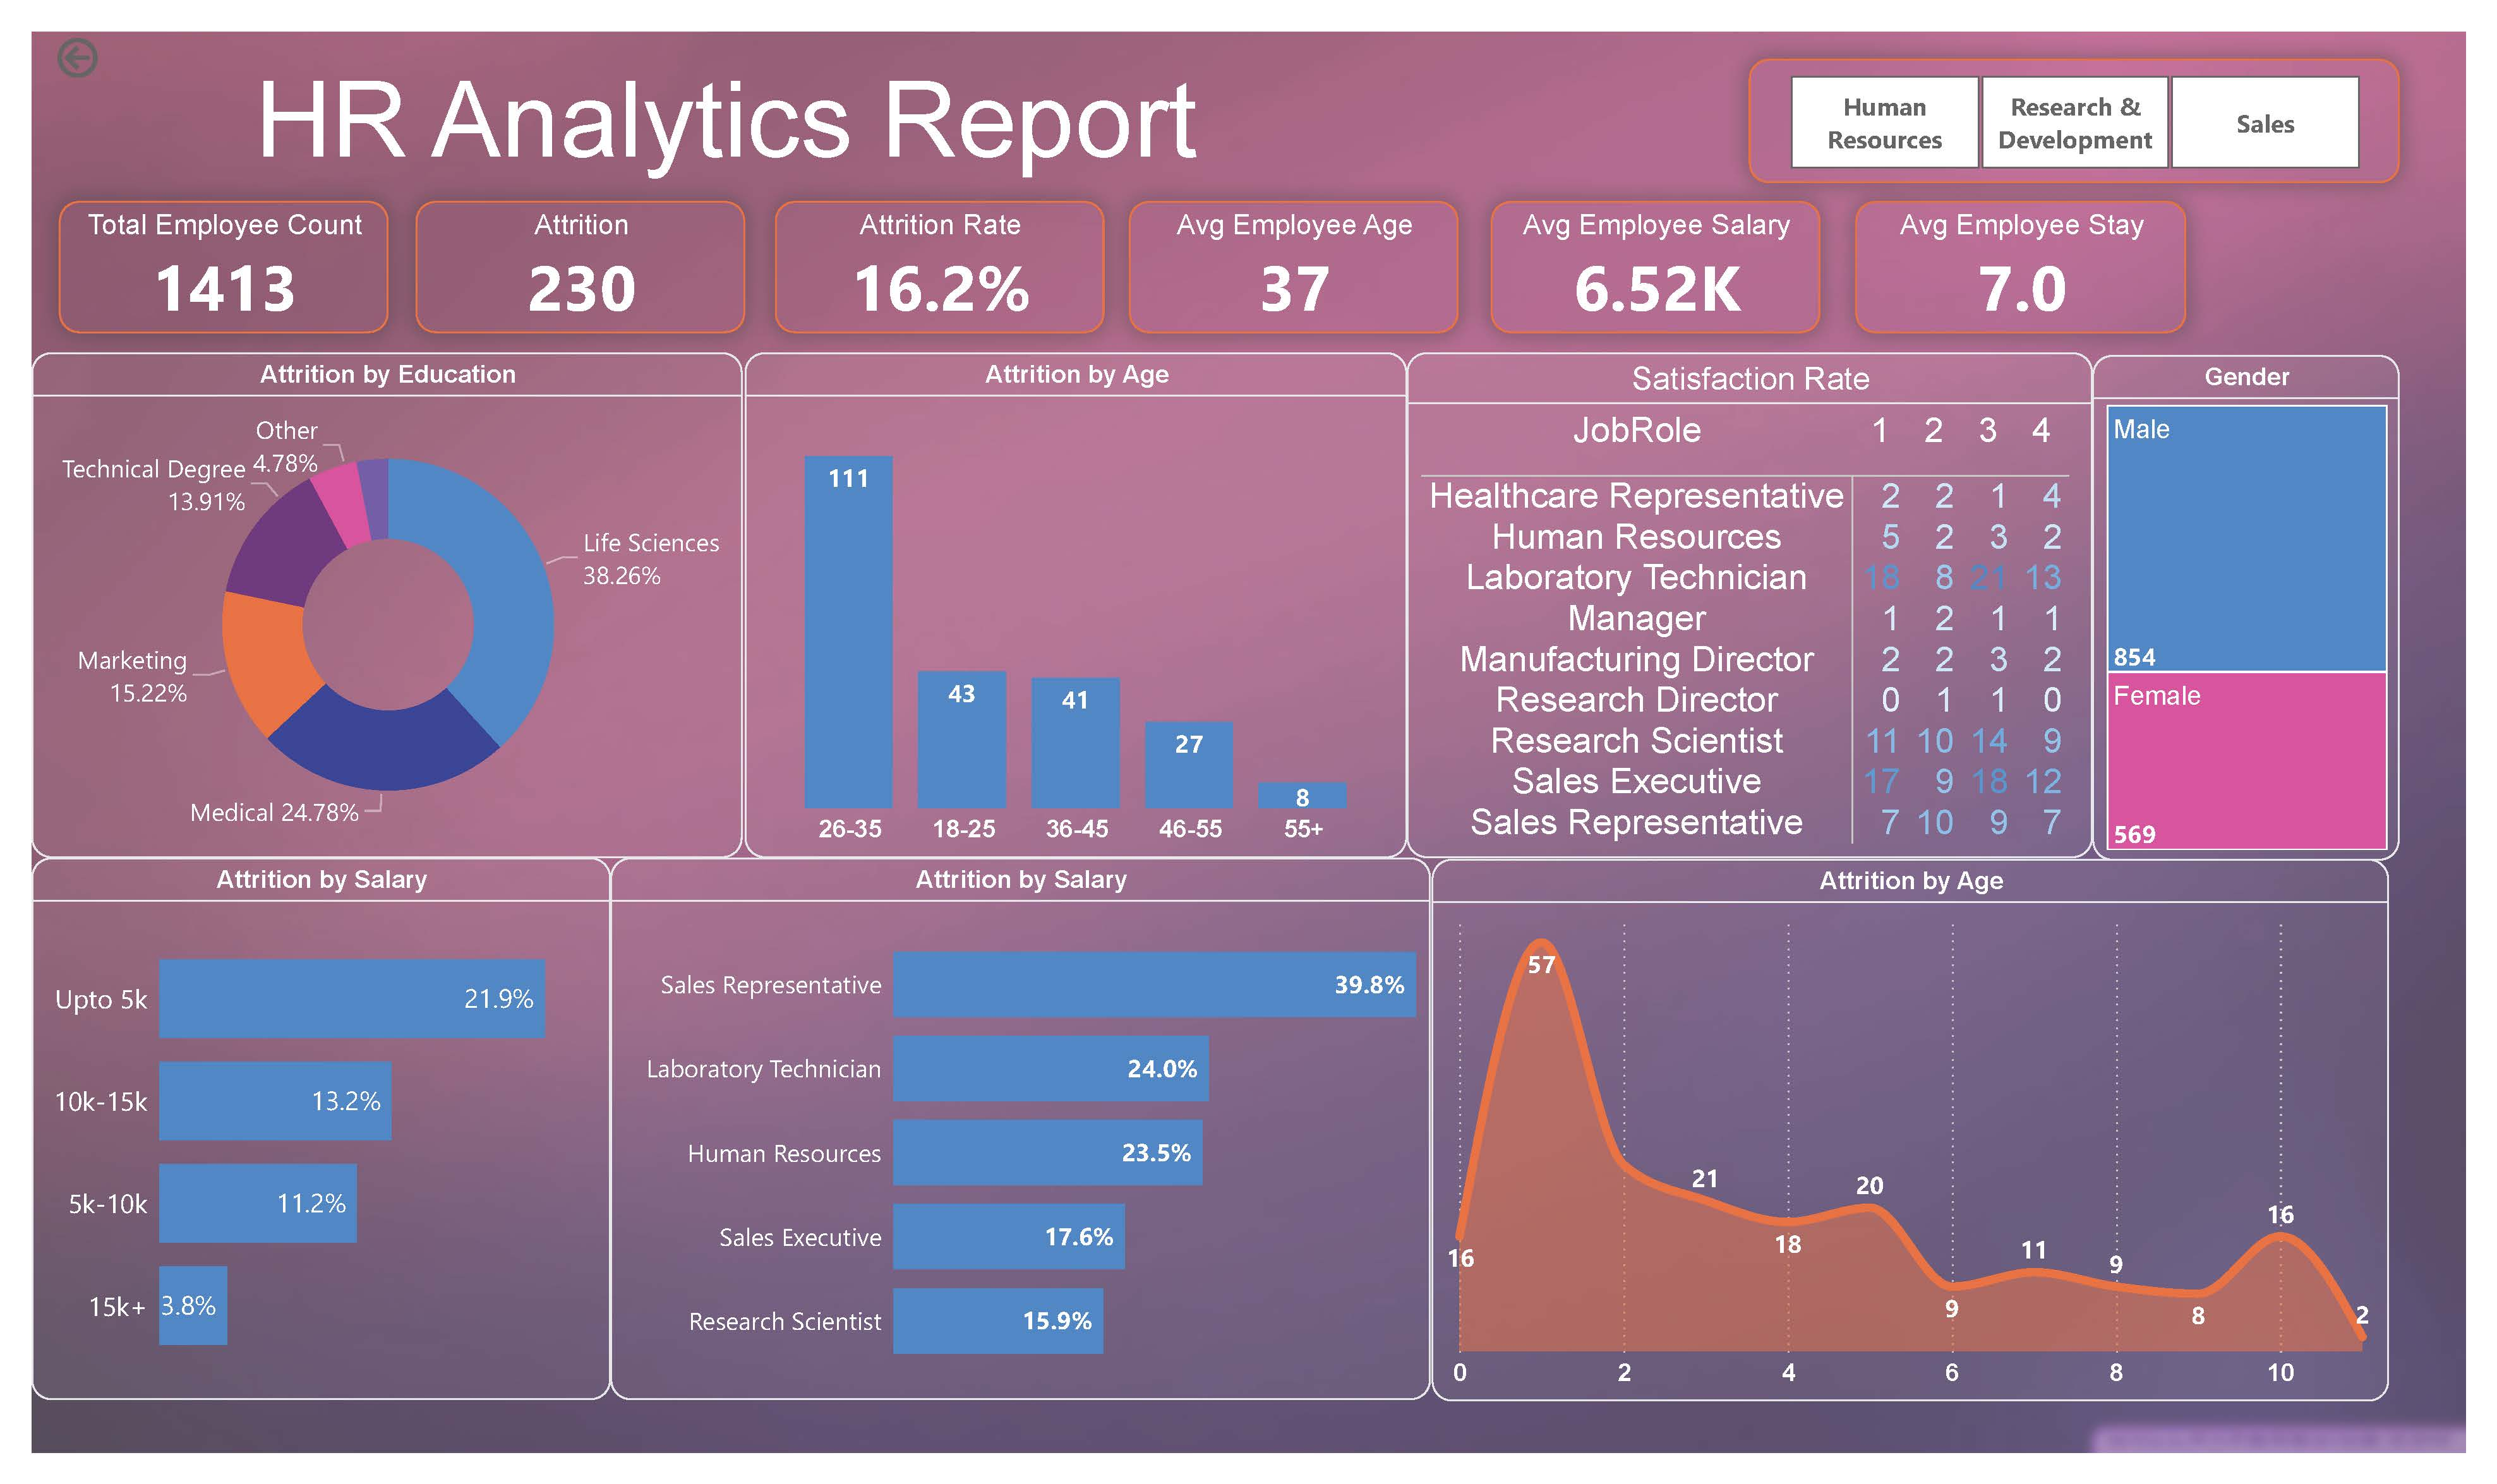

This screenshot's page, from the dashboard's own definition file:
{"tool":"powerbi","page":{"name":"Page 1","canvas":[1850,1080],"ordinal":0},"visuals":[{"type":"card","title":"Total Employee Count","fields":{"Values":["Count(HR_Analytics.EmpID)"]},"box":[20.8,129.3,250.2,100.1],"z":0},{"type":"card","title":"Avg Employee Age","fields":{"Values":["Avg(HR_Analytics.Age)"]},"box":[834,129.3,250.2,100.1],"z":1000},{"type":"card","title":"Attrition Rate","fields":{"Values":["HR_Analytics.AttritionRate"]},"box":[565,129.3,250.2,100.1],"z":2000},{"type":"card","title":"Attrition","fields":{"Values":["Sum(HR_Analytics.Attrition Count)"]},"box":[291.9,129.3,250.2,100.1],"z":3000},{"type":"actionButton","box":[14.6,0,100.1,39.6],"z":4000},{"type":"card","title":"Avg Employee Stay","fields":{"Values":["Avg(HR_Analytics.YearsAtCompany)"]},"box":[1386.5,129.3,250.2,100.1],"z":5000},{"type":"card","title":"Avg Employee Salary","fields":{"Values":["Avg(HR_Analytics.MonthlyIncome)"]},"box":[1109.2,129.3,250.2,100.1],"z":6000},{"type":"donutChart","title":"Attrition by Education","fields":{"Category":["HR_Analytics.EducationField"],"Y":["Sum(HR_Analytics.Attrition Count)"]},"box":[0,243.9,540,383.6],"z":7000},{"type":"clusteredColumnChart","title":"Attrition by Age","fields":{"Category":["HR_Analytics.AgeGroup"],"Y":["Sum(HR_Analytics.Attrition Count)"]},"box":[542.1,243.9,502.5,383.6],"z":8000},{"type":"pivotTable","title":"Satisfaction Rate","fields":{"Rows":["HR_Analytics.JobRole"],"Columns":["HR_Analytics.JobSatisfaction"],"Values":["Sum(HR_Analytics.Attrition Count)"]},"box":[1044.6,243.9,521.2,383.6],"z":9000},{"type":"barChart","title":"Attrition by Salary","fields":{"Category":["HR_Analytics.SalarySlab"],"Y":["HR_Analytics.AttritionRate"]},"box":[0,627.6,439.9,412.8],"z":10000},{"type":"barChart","title":"Attrition by Salary","fields":{"Category":["HR_Analytics.JobRole"],"Y":["HR_Analytics.AttritionRate"]},"box":[439.9,627.6,623.4,412.8],"z":11000},{"type":"areaChart","title":"Attrition by Age","fields":{"Category":["HR_Analytics.YearsAtCompany"],"Y":["Sum(HR_Analytics.Attrition Count)"]},"box":[1063.7,628.5,727.8,412.2],"z":12000},{"type":"treemap","title":"Gender","fields":{"Group":["HR_Analytics.Gender"],"Values":["CountNonNull(HR_Analytics.EmpID)"]},"box":[1565.8,246,233.5,383.6],"z":12001},{"type":"slicer","fields":{"Values":["HR_Analytics.Department"]},"box":[1305.2,20.8,494.1,93.8],"z":12002},{"type":"textbox","box":[164.7,16.7,748.5,102.2],"z":12003}]}

Visuals, with their boxes in screenshot pixels (x1, y1, x2, y2):
"Total Employee Count" card: bbox=(59, 201, 388, 333)
"Avg Employee Age" card: bbox=(1129, 201, 1458, 333)
"Attrition Rate" card: bbox=(775, 201, 1104, 333)
"Attrition" card: bbox=(416, 201, 745, 333)
actionButton: bbox=(51, 32, 183, 83)
"Avg Employee Stay" card: bbox=(1856, 201, 2185, 333)
"Avg Employee Salary" card: bbox=(1491, 201, 1820, 333)
"Attrition by Education" donutChart: bbox=(32, 352, 742, 857)
"Attrition by Age" clusteredColumnChart: bbox=(745, 352, 1406, 857)
"Satisfaction Rate" pivotTable: bbox=(1406, 352, 2091, 857)
"Attrition by Salary" barChart: bbox=(32, 858, 610, 1401)
"Attrition by Salary" barChart: bbox=(610, 858, 1431, 1401)
"Attrition by Age" areaChart: bbox=(1431, 858, 2388, 1401)
"Gender" treemap: bbox=(2091, 355, 2398, 860)
slicer - HR_Analytics.Department: bbox=(1748, 59, 2398, 183)
textbox: bbox=(248, 54, 1233, 188)
